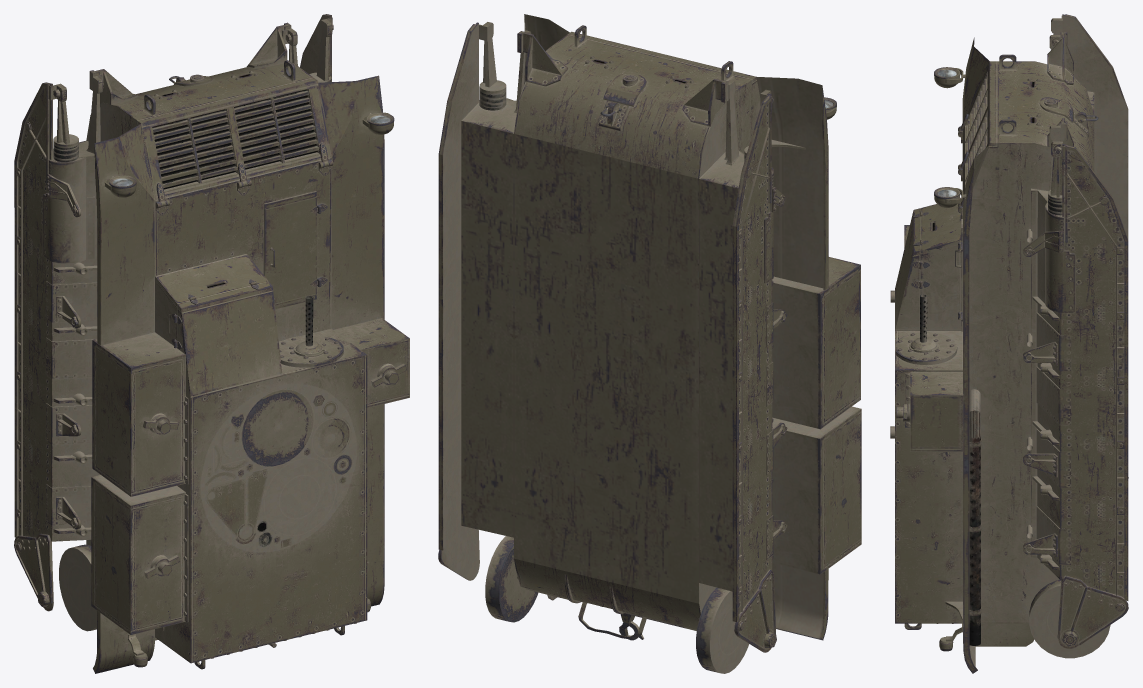
Rendered from Hull.glb.
3 renders of one model, left to right at view 1: azimuth 30°, elevation 25°; view 2: azimuth 150°, elevation 25°; view 3: azimuth 270°, elevation 25°, orthographic. The views are drawn at different scales.
Visible parts, largest first — view 1: set_0_group_0; view 2: set_0_group_0; view 3: set_0_group_0.
Part boxes in pixels (x1,y1,x2,y2): set_0_group_0: (14, 14, 409, 673); set_0_group_0: (438, 14, 861, 673); set_0_group_0: (890, 14, 1128, 673).
Bounding box in the file's own units: 2.48 × 4.51 × 1.83.
1 material, 1 textured.
